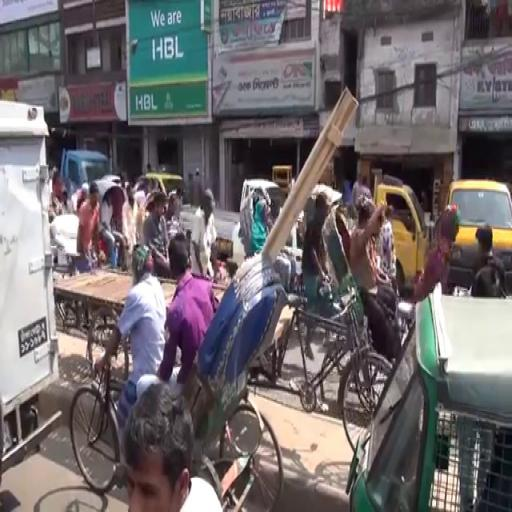pickup: (2, 96, 65, 475), (445, 175, 512, 289), (376, 175, 429, 296), (59, 145, 114, 193)
rickshaw: (68, 249, 287, 512), (329, 197, 403, 424), (135, 188, 223, 306), (99, 177, 126, 270)
three wheelers CNG: (345, 296, 512, 512)
wheelbarrow: (50, 254, 265, 385)
